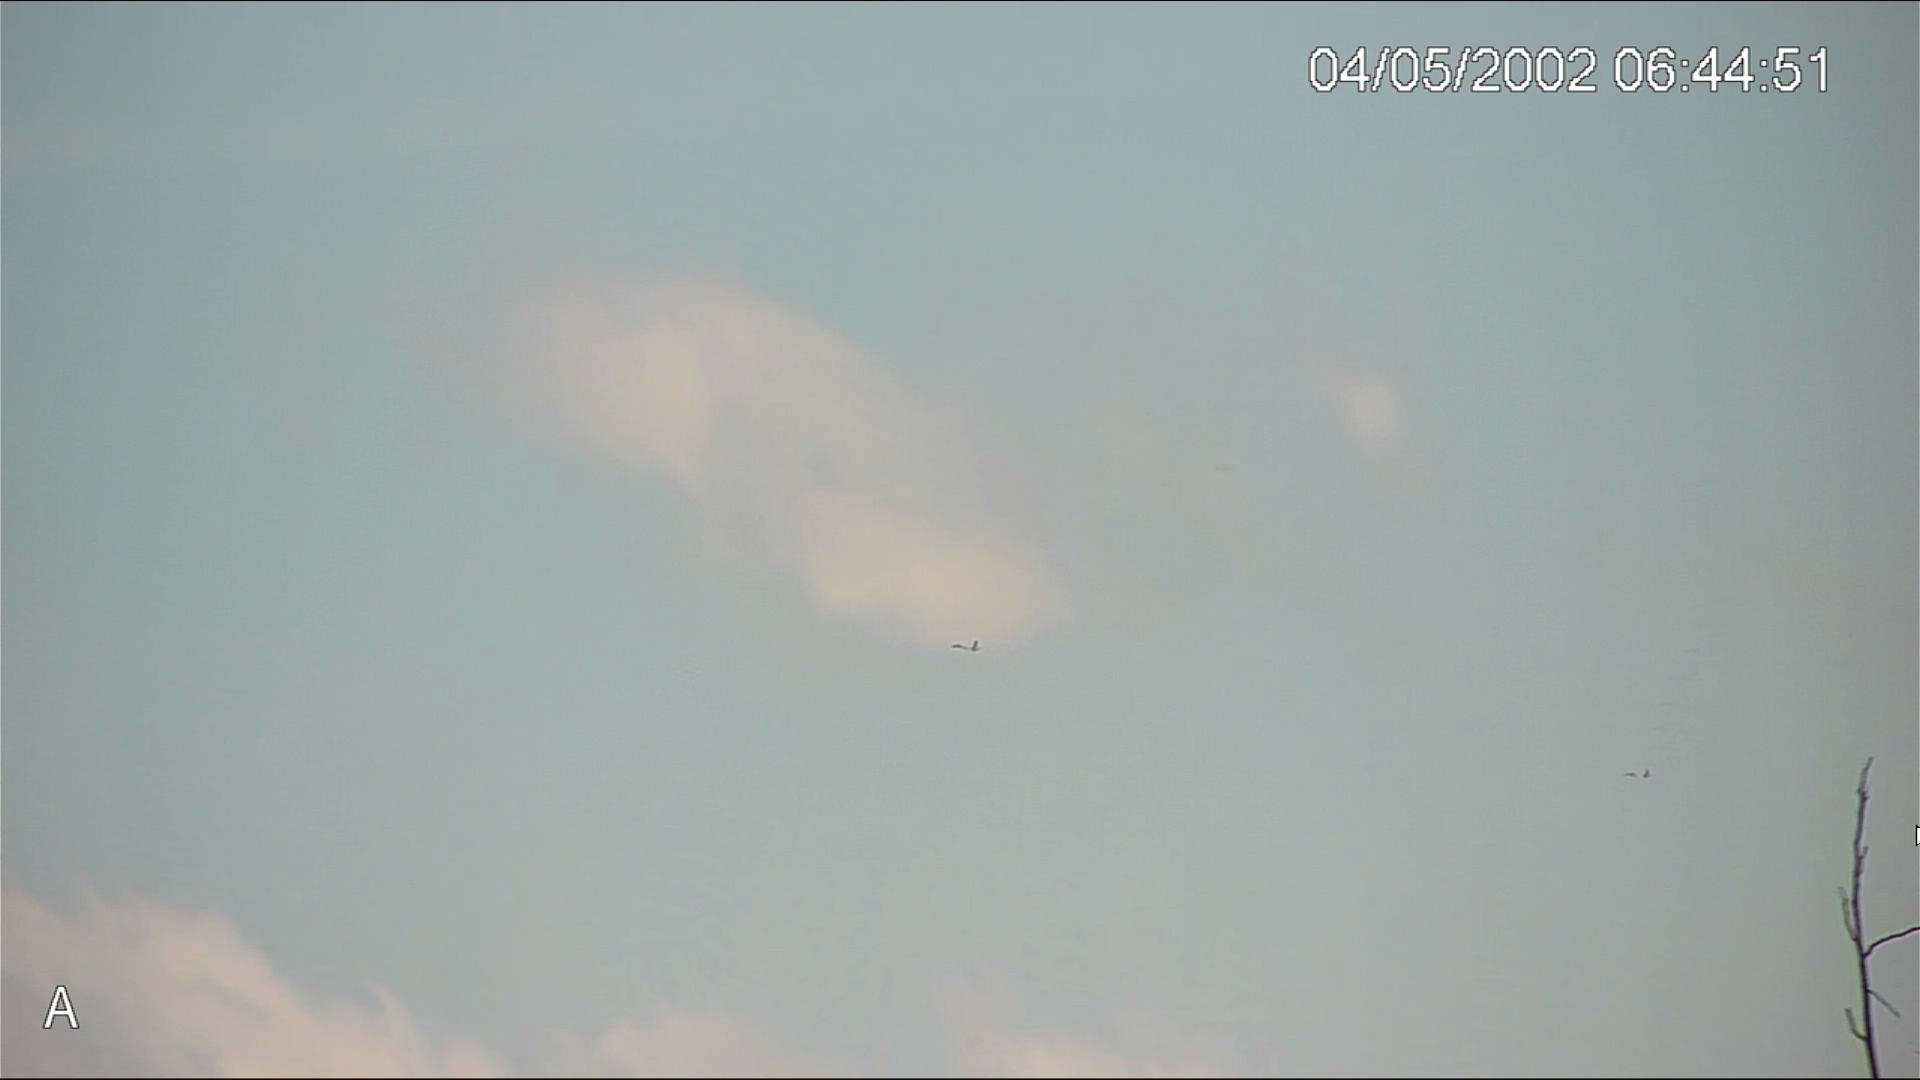SU_30: (1623, 764, 1658, 786), (948, 640, 982, 655)
